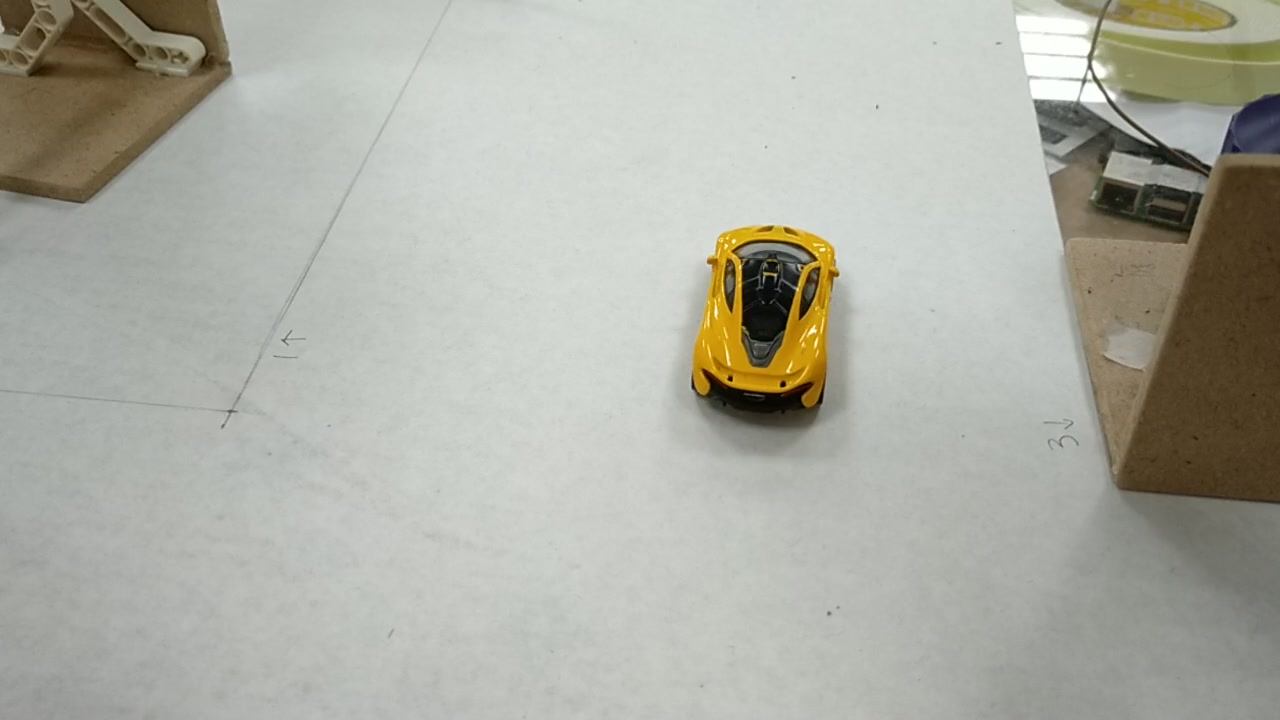car: (689, 226, 841, 415)
